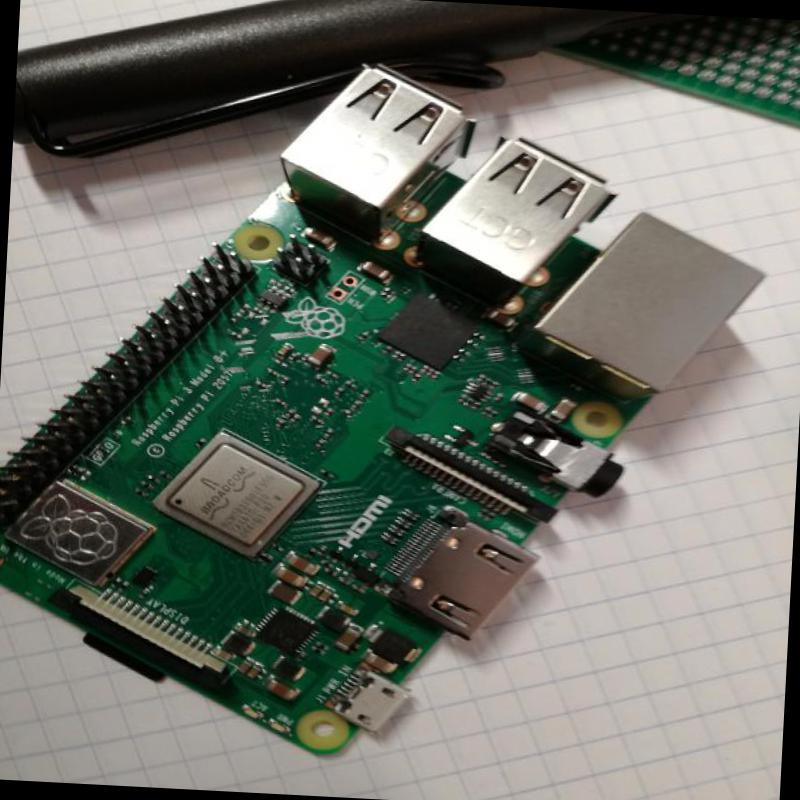Raspberry_Pi_3: (1, 39, 791, 791)
